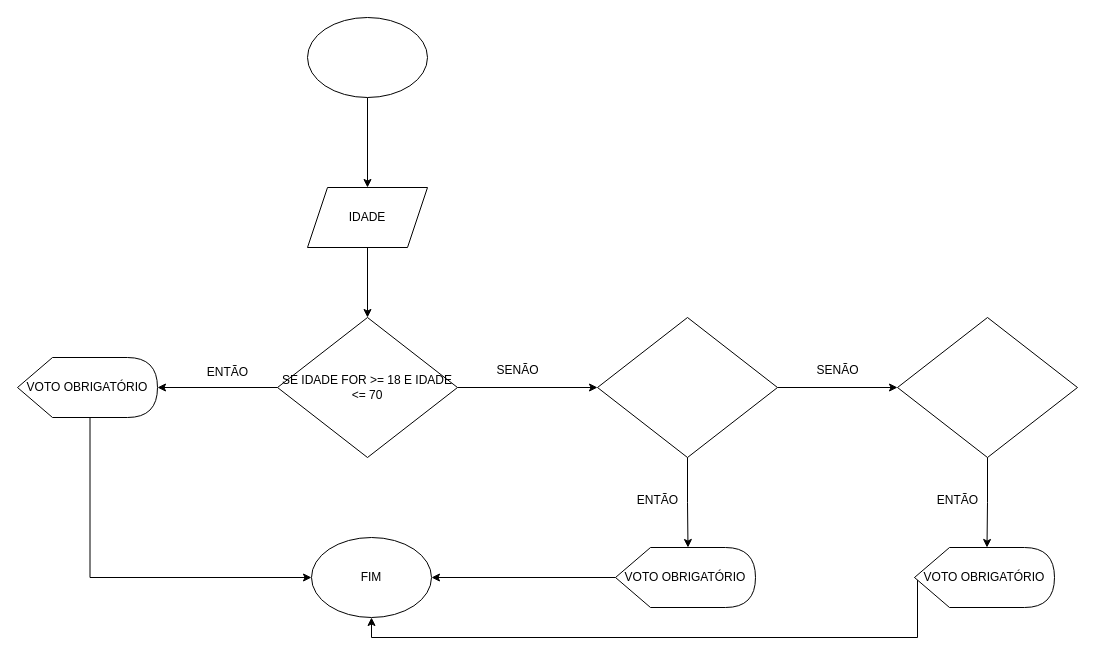
This 1095x663 diagram has some shape labels left out. The box of each missing label's shape, as (x1, y1, x2, y2) in pixels:
INÍCIO: (306, 16, 428, 98)
SE (IDADE >= 16 E IDADE <18) OU IDADE >= 70: (596, 316, 778, 458)
SE IDADE < 16: (896, 316, 1078, 458)
